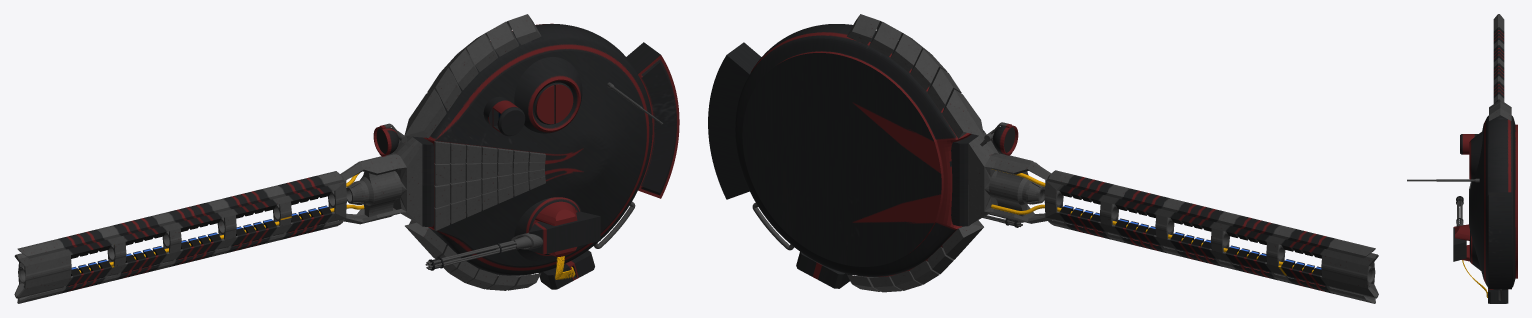
File: Enemy_turret.glb
3 renders of one model, left to right at view 1: azimuth 30°, elevation 25°; view 2: azimuth 150°, elevation 25°; view 3: azimuth 270°, elevation 25°, orthographic. The views are drawn at different scales.
Visible parts, largest first — view 1: Turret.069; view 2: Turret.069; view 3: Turret.069.
Part boxes in pixels (x1,y1,x2,y2): Turret.069: [14, 14, 679, 303]; Turret.069: [708, 14, 1378, 303]; Turret.069: [1407, 14, 1517, 303].
Size of the model in its own units: 1.07 by 0.4284 by 0.233.
Materials: 1 (1 with a texture image).
